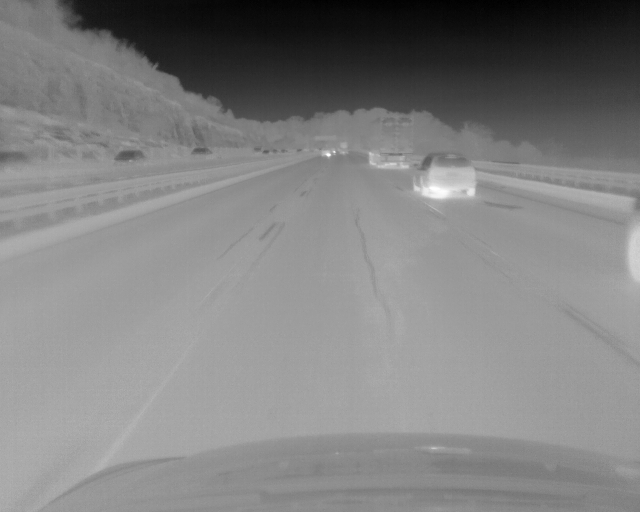car: (411, 152, 476, 198), (364, 118, 411, 169), (1, 150, 30, 171), (115, 150, 143, 164), (194, 147, 211, 155)
